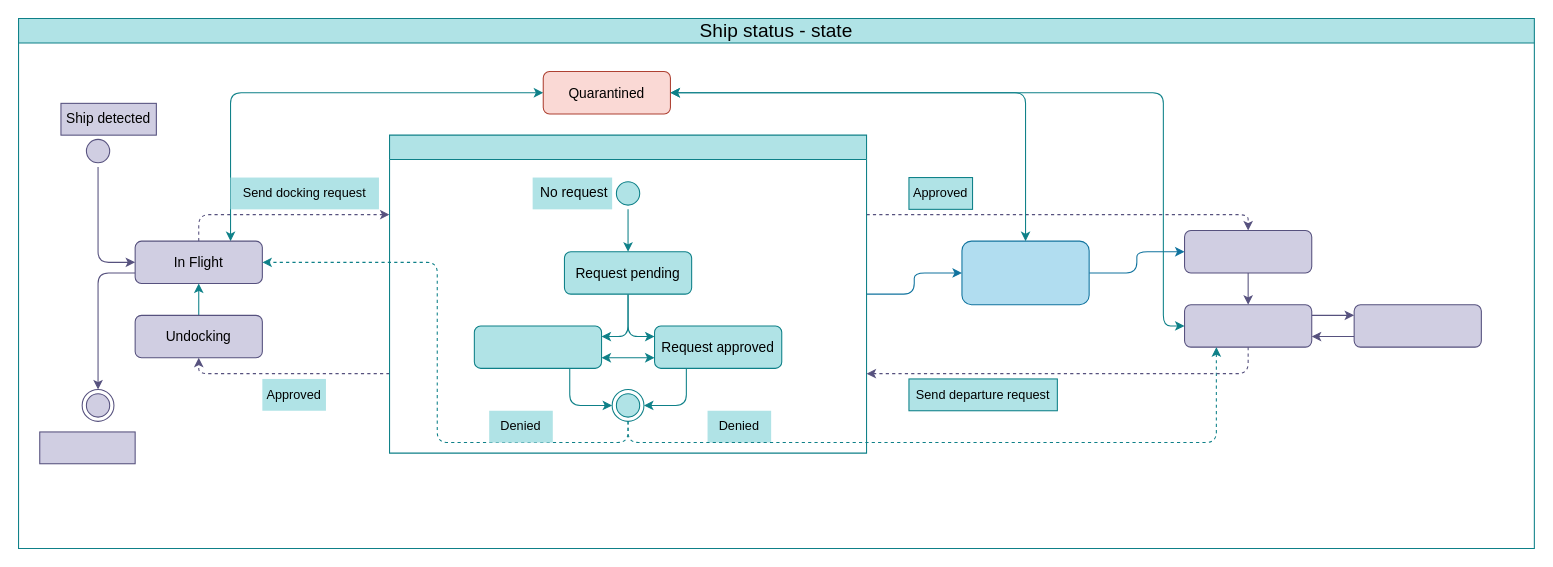
This 1553x567 diagram has some shape labels left out. Here are the shapes that lost their labels. From the top down, the box of each, then its label:
(1183, 229, 1312, 273): Docking
(961, 240, 1089, 305): Awaiting docking port assignment (optional)
(388, 134, 867, 453): Request - state
(1183, 304, 1312, 347): Docked
(1353, 304, 1481, 347): Refueling
(473, 325, 602, 368): Request denied
(39, 431, 135, 464): Ship leaves
